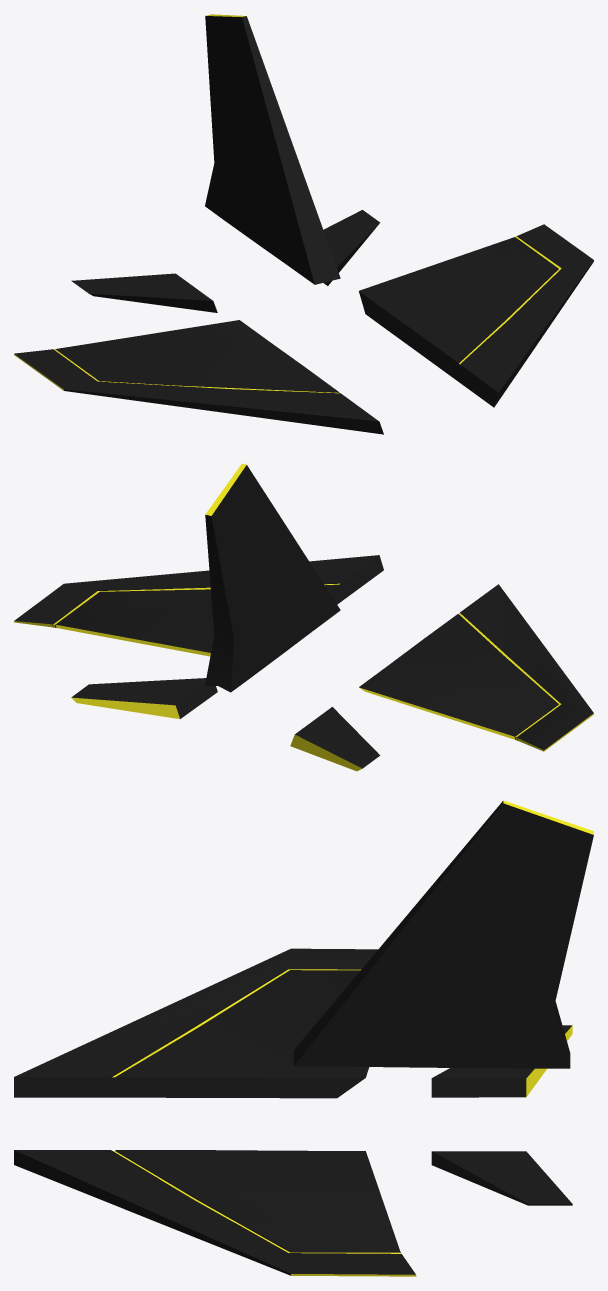
Rendered from 2_Wing.fbx.
3 views of the same model, one above another, from view 1: azimuth 30°, elevation 25°; view 2: azimuth 150°, elevation 25°; view 3: azimuth 270°, elevation 25° (orthographic). The views are drawn at different scales.
Parts seen in each view (by area): view 1: 2_Wing; view 2: 2_Wing; view 3: 2_Wing.
Part boxes in pixels (x1=…): 2_Wing: x1=14, y1=14, x2=593, y2=434; 2_Wing: x1=14, y1=463, x2=593, y2=771; 2_Wing: x1=14, y1=800, x2=593, y2=1276.
Bounding box in the file's own units: 2.09 × 0.9882 × 1.57.
Materials: 1 (1 with a texture image).
